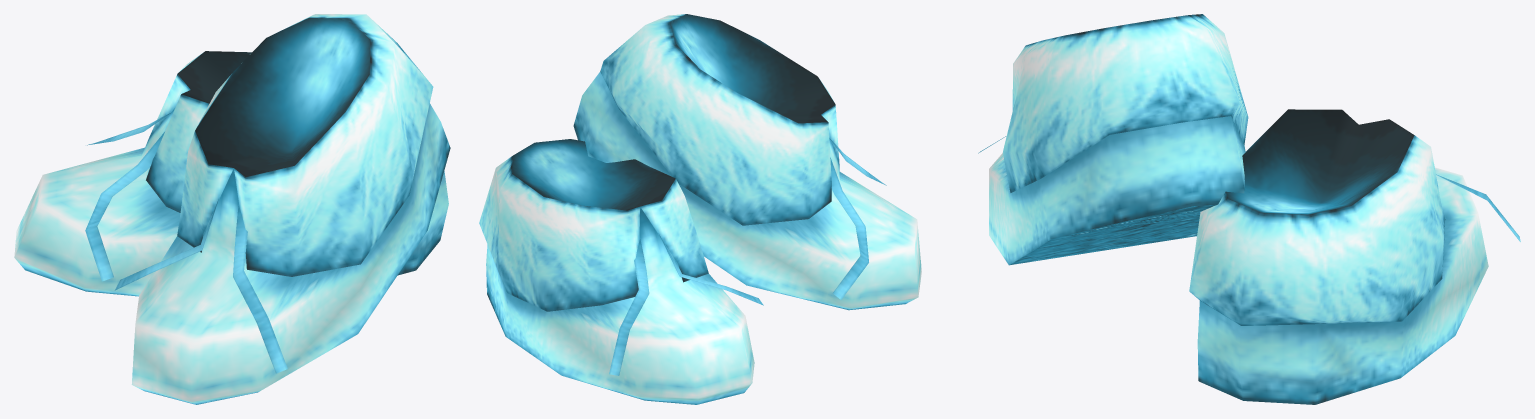
3 renders of one model, left to right at view 1: azimuth 30°, elevation 25°; view 2: azimuth 150°, elevation 25°; view 3: azimuth 270°, elevation 25°, orthographic. The views are drawn at different scales.
Parts seen in each view (by area): view 1: objShoe, objShoe1; view 2: objShoe, objShoe1; view 3: objShoe1, objShoe.
Boxes of the visible parts, x1,y1,x2,y2 form: objShoe: [114, 14, 450, 404]; objShoe1: [14, 51, 448, 296]; objShoe: [573, 14, 921, 310]; objShoe1: [479, 139, 763, 404]; objShoe1: [1189, 109, 1520, 404]; objShoe: [978, 14, 1248, 265].
Size of the model in its own units: 155 by 113 by 181.
Materials: 2 (2 with a texture image).
